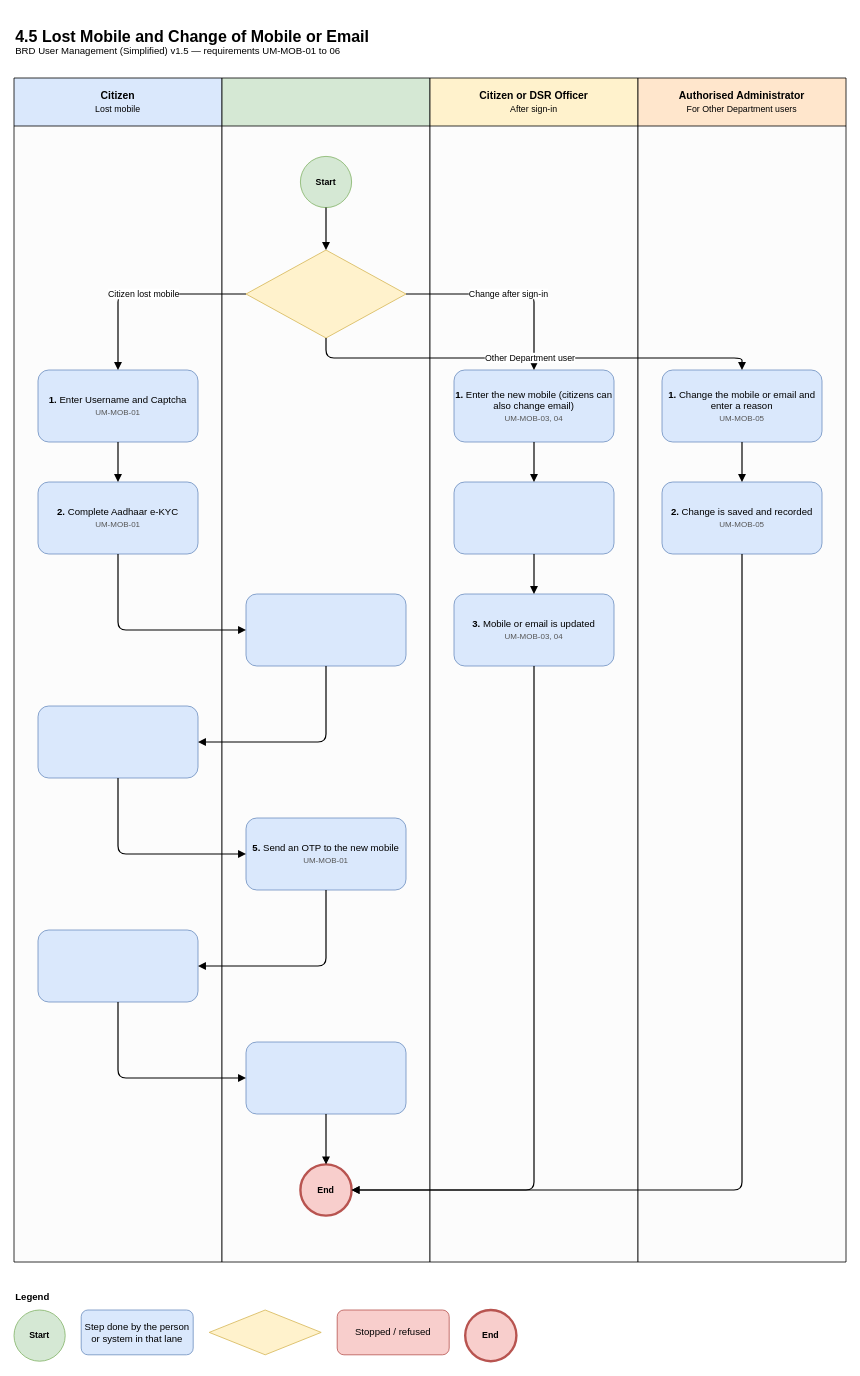
The diagram is 860 pixels wide and 1376 high, and some of its shapes have lost their labels. Each missing label, with the box of its shape:
2. Enter the OTP sent to the new mobile or email UM-MOB-03, 04: (453, 481, 614, 554)
3. Send a PIN to the registered email UM-MOB-01: (245, 593, 406, 666)
4. Enter the PIN and the new mobile number UM-MOB-01: (37, 705, 198, 778)
6. Enter the OTP (repeated failures lock the reset for 30 minutes) UM-MOB-02: (37, 929, 198, 1002)
7. Update the mobile and inform the citizen by email UM-MOB-01: (245, 1041, 406, 1114)
Check / choice: (208, 1309, 321, 1355)
Kaveri System: (221, 77, 430, 1262)
What is needed? UM-MOB-06: (245, 249, 406, 338)
